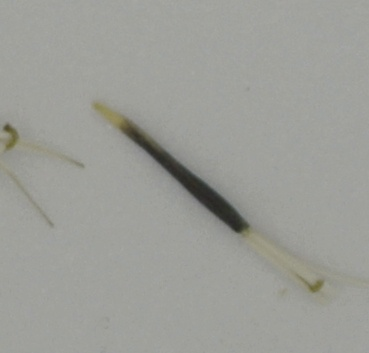เมล็ดดีเรียวยาว: (92, 94, 351, 307)
